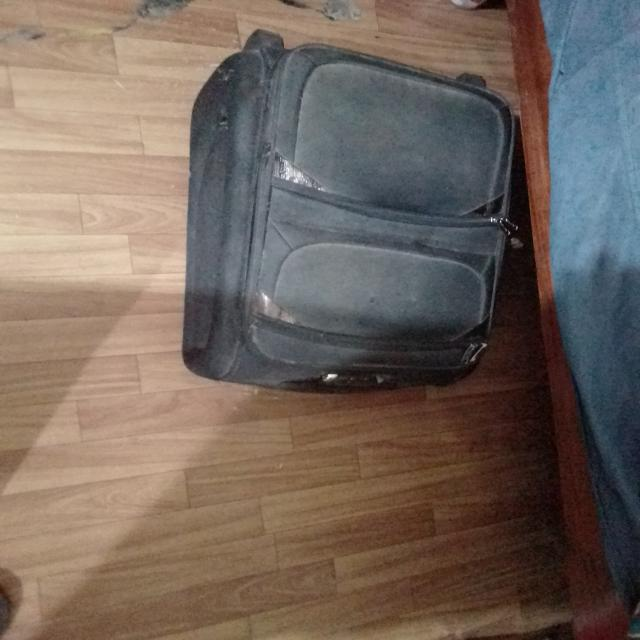suitcaserotation: (176, 24, 527, 398)
